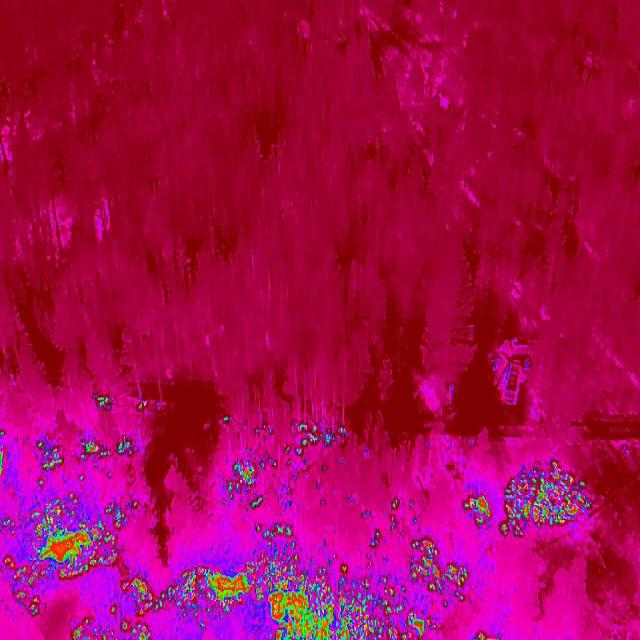fire: (252, 522, 427, 640), (0, 493, 134, 618), (134, 558, 256, 634), (498, 460, 602, 542), (33, 432, 137, 488), (408, 538, 470, 606), (224, 455, 279, 513), (288, 418, 356, 462), (65, 616, 162, 640), (92, 389, 151, 417), (461, 492, 493, 532), (0, 426, 10, 482), (216, 412, 236, 429), (473, 631, 496, 640)
